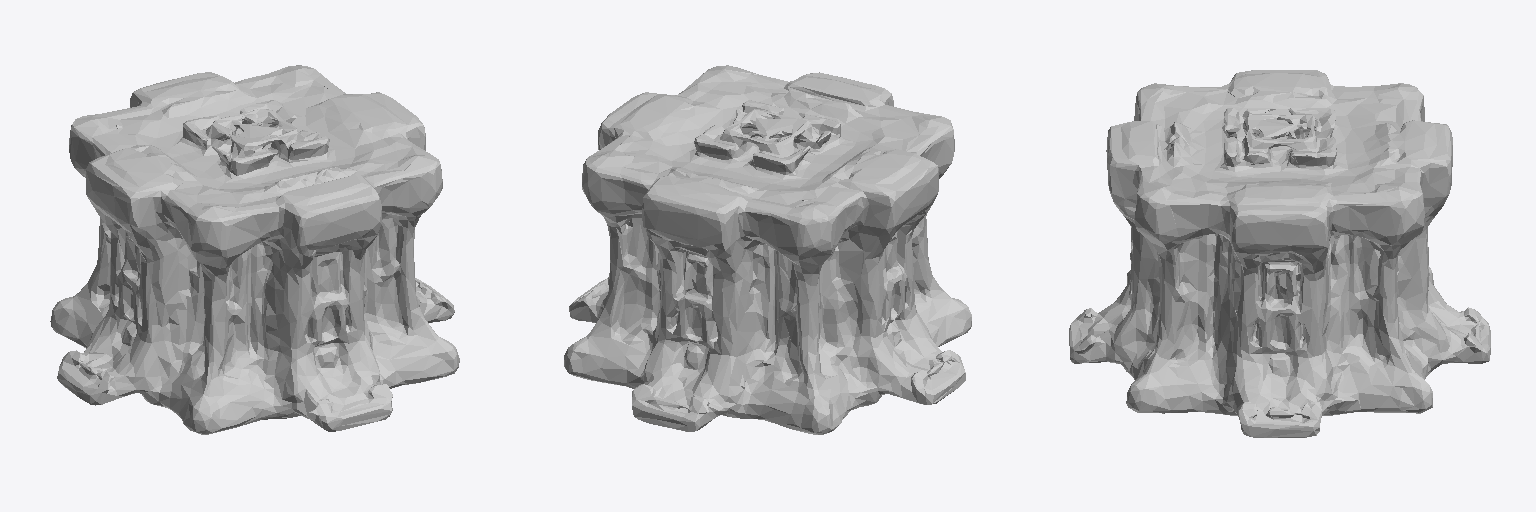
File: 2ecd7ae7b020_a_large_Shield_gene.obj
3 views of the same model, side by side, from view 1: azimuth 30°, elevation 25°; view 2: azimuth 150°, elevation 25°; view 3: azimuth 270°, elevation 25° (orthographic).
Parts seen in each view (by area): view 1: mesh; view 2: mesh; view 3: mesh.
Part boxes in pixels (left/top/right/bottom): mesh: left=50, top=65, right=459, bottom=434; mesh: left=564, top=65, right=971, bottom=434; mesh: left=1069, top=70, right=1490, bottom=437.
Size of the model in its own units: 1 by 0.6779 by 0.9969.